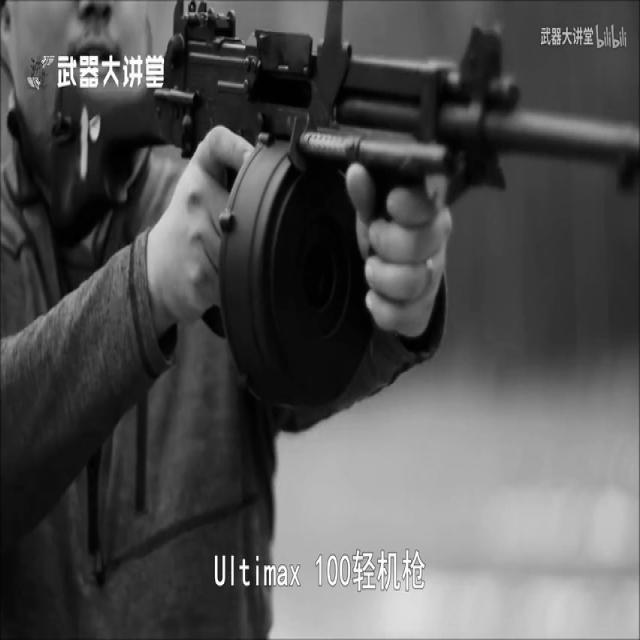Sub-machine-gun: (9, 0, 633, 444)
